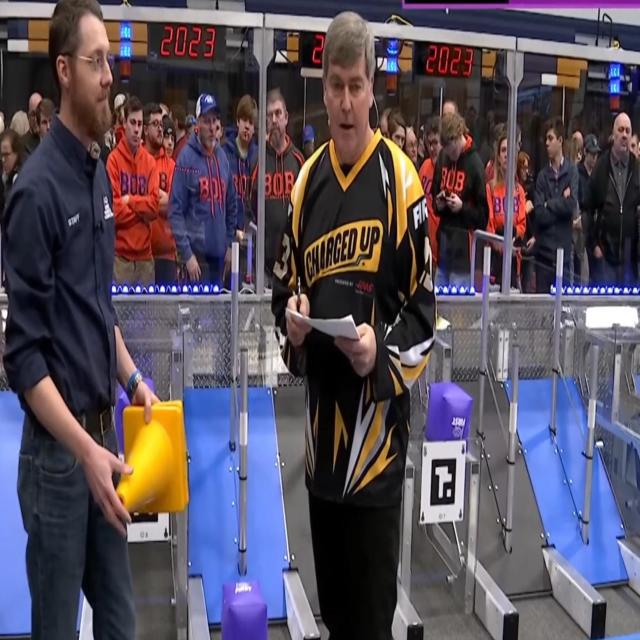frc_cone: (114, 401, 188, 519)
frc_cube: (117, 373, 153, 460), (425, 380, 471, 448), (220, 579, 268, 640)
